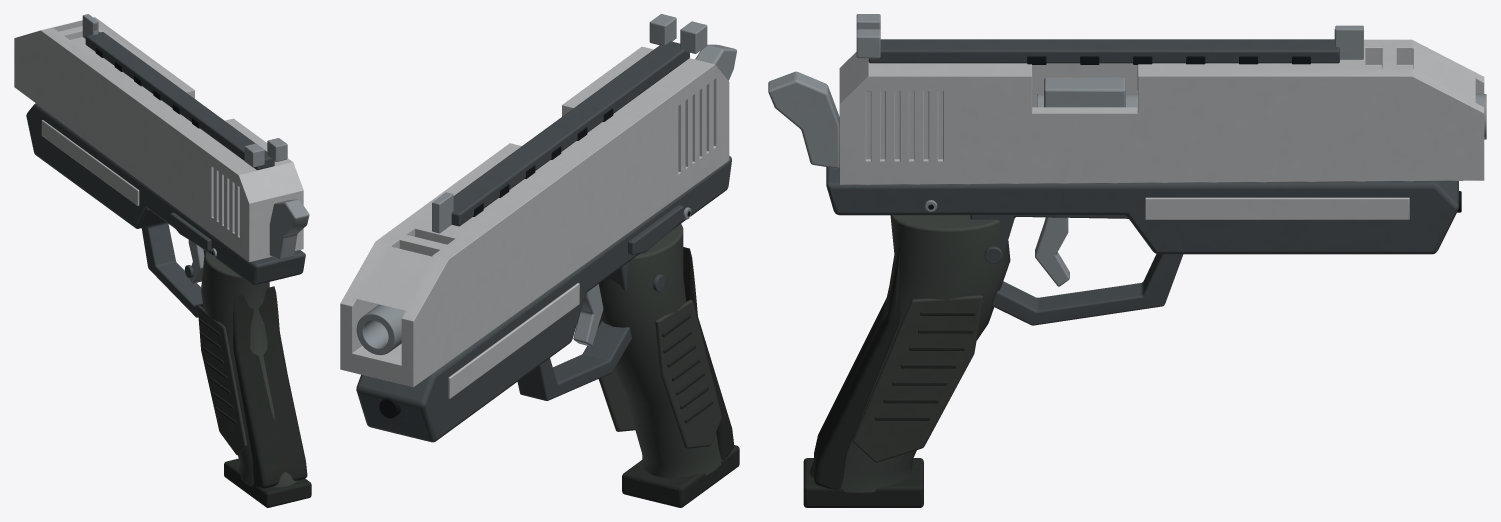
The model's file is goliath.glb.
The picture shows the model from 3 angles, left to right: view 1: azimuth 30°, elevation 25°; view 2: azimuth 150°, elevation 25°; view 3: azimuth 270°, elevation 25°; orthographic projection. The views are drawn at different scales.
Visible parts, largest first — view 1: Goliath_Slide, Goliath_Static_Dense rubber, Goliath_Frame, Goliath_Grip, Goliath_TopRib, Goliath_Static_Treated graphite, Goliath_Static_Grip stipple, Goliath_Hammer, Goliath_Static_Brushed stainless, Goliath_MagazineFloorplate, Goliath_Trigger, Goliath_RearSight (+1 smaller); view 2: Goliath_Slide, Goliath_Frame, Goliath_Grip, Goliath_TopRib, Goliath_Static_Grip stipple, Goliath_Static_Treated graphite, Goliath_Static_Brushed stainless, Goliath_MagazineFloorplate, Goliath_Static_Dense rubber, Goliath_Barrel, Goliath_Trigger, Goliath_Hammer (+3 smaller); view 3: Goliath_Slide, Goliath_Frame, Goliath_Grip, Goliath_Static_Grip stipple, Goliath_TopRib, Goliath_Static_Dense rubber, Goliath_Static_Treated graphite, Goliath_Static_Brushed stainless, Goliath_Hammer, Goliath_MagazineFloorplate, Goliath_Static_Machined steel, Goliath_Trigger (+1 smaller).
Part boxes in pixels (<box>): Goliath_Slide: <box>14,17,303,262</box>; Goliath_Static_Dense rubber: <box>199,286,307,488</box>; Goliath_Frame: <box>26,103,305,285</box>; Goliath_Grip: <box>201,251,296,487</box>; Goliath_TopRib: <box>85,32,274,170</box>; Goliath_Static_Treated graphite: <box>141,212,211,317</box>; Goliath_Static_Grip stipple: <box>197,305,287,455</box>; Goliath_Hammer: <box>269,199,309,259</box>; Goliath_Static_Brushed stainless: <box>41,120,139,205</box>; Goliath_MagazineFloorplate: <box>224,458,311,507</box>; Goliath_Trigger: <box>188,240,204,283</box>; Goliath_RearSight: <box>244,143,264,167</box>; Goliath_Slide: <box>340,46,729,387</box>; Goliath_Frame: <box>356,156,731,442</box>; Goliath_Grip: <box>598,224,721,477</box>; Goliath_TopRib: <box>451,41,689,226</box>; Goliath_Static_Grip stipple: <box>598,299,721,448</box>; Goliath_Static_Treated graphite: <box>517,205,683,400</box>; Goliath_Static_Brushed stainless: <box>448,283,579,398</box>; Goliath_MagazineFloorplate: <box>622,445,739,507</box>; Goliath_Static_Dense rubber: <box>662,247,733,460</box>; Goliath_Barrel: <box>356,304,405,355</box>; Goliath_Trigger: <box>573,284,603,346</box>; Goliath_Hammer: <box>695,44,736,80</box>; Goliath_Slide: <box>839,39,1484,184</box>; Goliath_Frame: <box>826,167,1458,254</box>; Goliath_Grip: <box>809,215,1010,493</box>; Goliath_Static_Grip stipple: <box>852,295,983,462</box>; Goliath_TopRib: <box>868,39,1339,63</box>; Goliath_Static_Dense rubber: <box>814,245,975,489</box>; Goliath_Static_Treated graphite: <box>970,215,1183,325</box>; Goliath_Static_Brushed stainless: <box>1145,197,1409,219</box>; Goliath_Hammer: <box>768,71,839,168</box>; Goliath_MagazineFloorplate: <box>803,458,923,507</box>; Goliath_Static_Machined steel: <box>925,77,1125,211</box>; Goliath_Trigger: <box>1035,217,1069,286</box>.
Size of the model in its own units: 0.043 by 0.215 by 0.2987.
8 materials, 8 textured.
